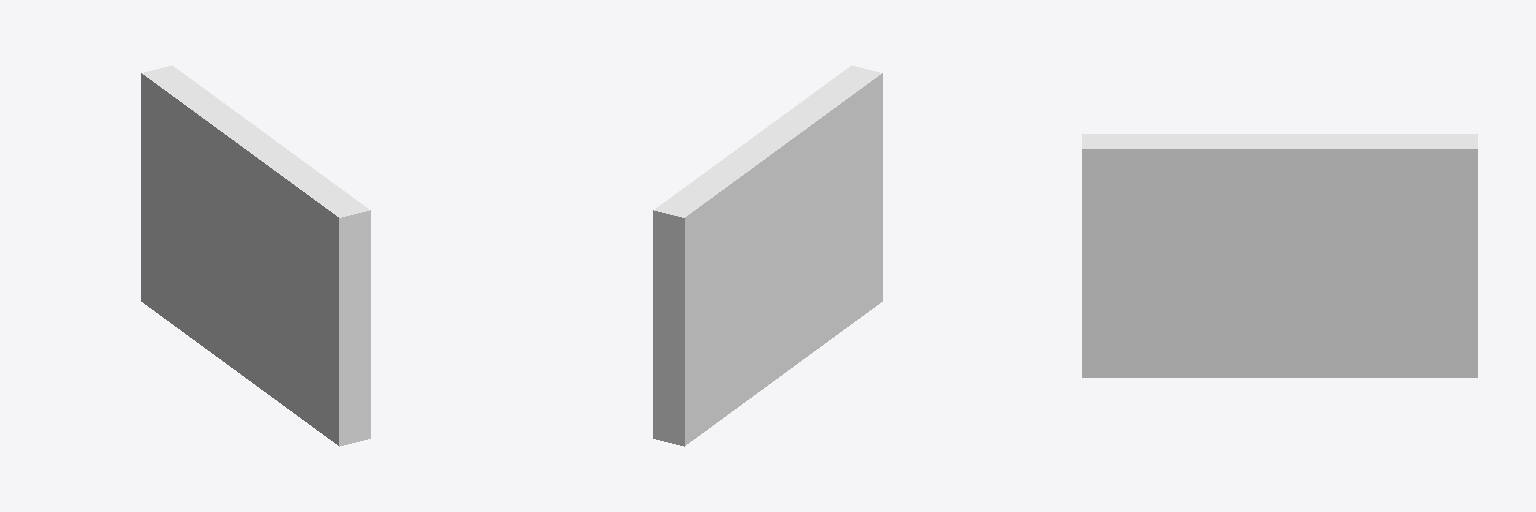
The model's file is picture.obj.
3 renders of one model, left to right at view 1: azimuth 30°, elevation 25°; view 2: azimuth 150°, elevation 25°; view 3: azimuth 270°, elevation 25°, orthographic.
Visible parts, largest first — view 1: object 1; view 2: object 1; view 3: object 1.
Boxes of the visible parts, x1=… form: object 1: x1=141, y1=65, x2=370, y2=446; object 1: x1=653, y1=65, x2=882, y2=446; object 1: x1=1082, y1=134, x2=1477, y2=377.
Bounding box in the file's own units: 0.1 × 0.7 × 1.1.